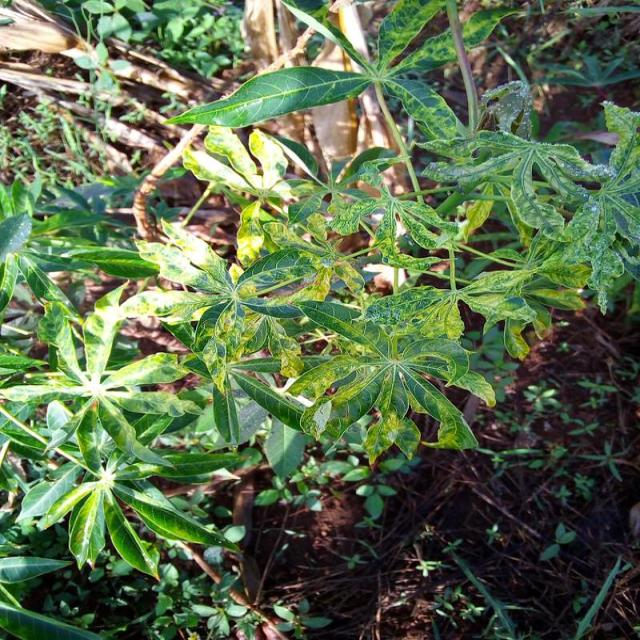cassava leaf: (164, 64, 373, 129)
